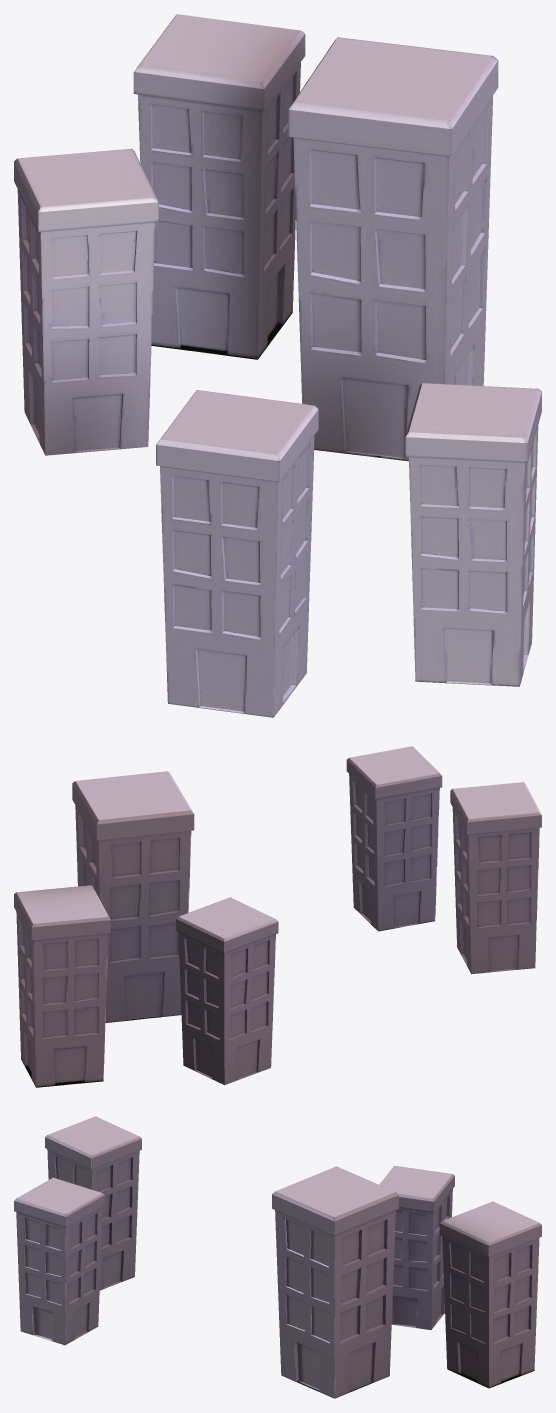
Rendered from baked-buildings.glb.
The picture shows the model from 3 angles, top to bottom: view 1: azimuth 30°, elevation 25°; view 2: azimuth 150°, elevation 25°; view 3: azimuth 270°, elevation 25°; orthographic projection. The views are drawn at different scales.
Visible parts, largest first — view 1: BUILDING; view 2: BUILDING; view 3: BUILDING.
Boxes of the visible parts, bbox=[...] form: BUILDING: bbox=[14, 14, 541, 717]; BUILDING: bbox=[14, 746, 541, 1087]; BUILDING: bbox=[14, 1116, 541, 1398].
Size of the model in its own units: 6.8 by 4.01 by 10.35.
Materials: 1 (1 with a texture image).
